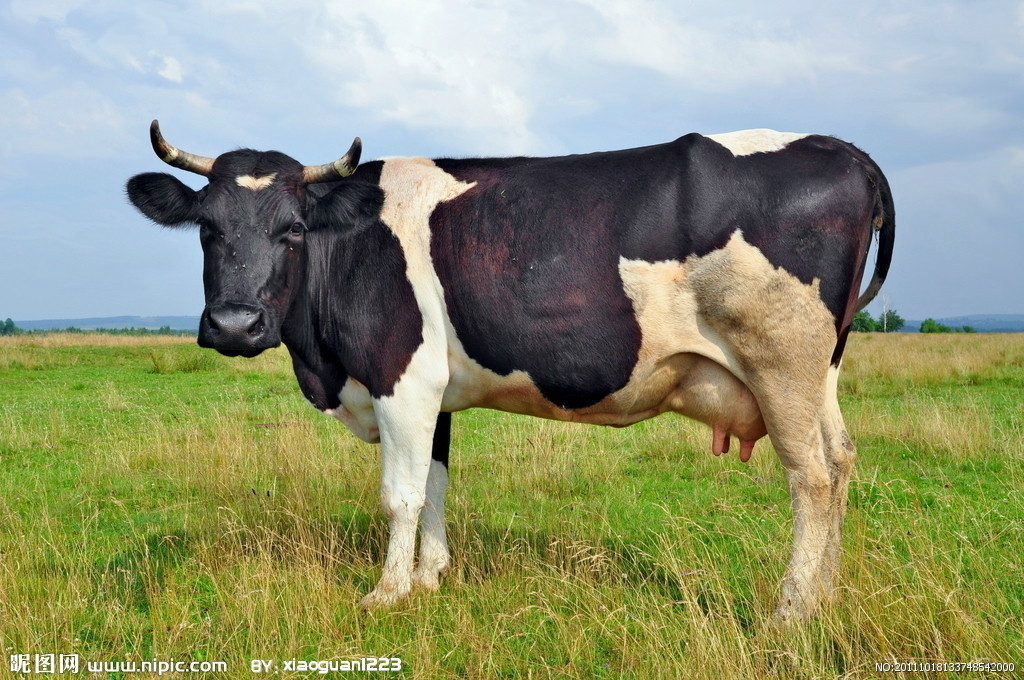background: (118, 123, 899, 610)
